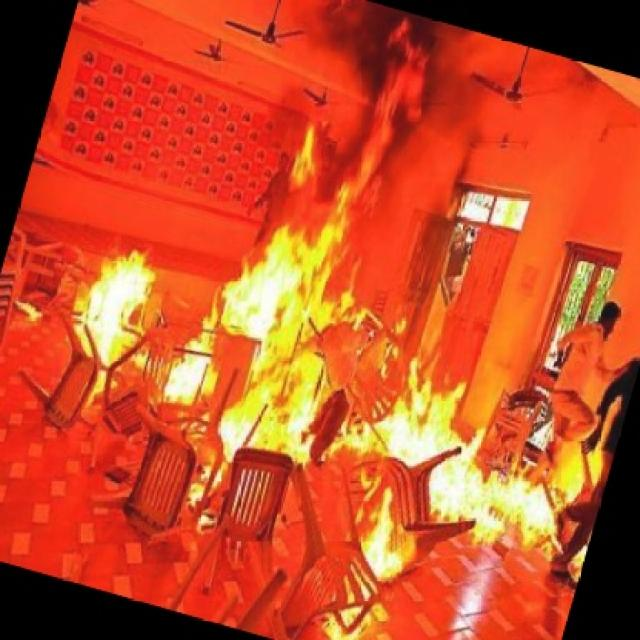fire: (17, 121, 640, 608)
